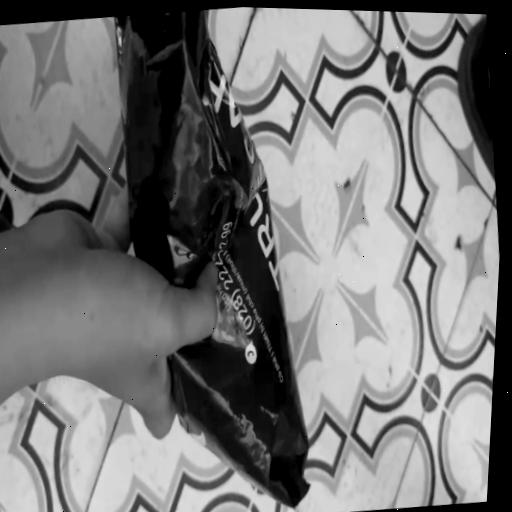cafe_hat: (114, 10, 308, 507)
